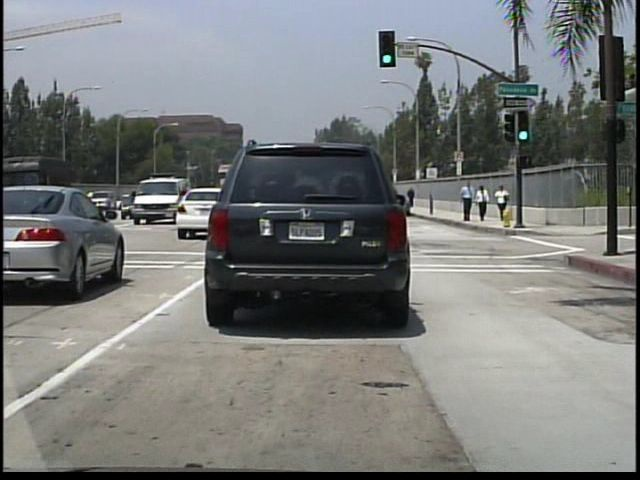person: (459, 180, 475, 223), (475, 185, 491, 223), (495, 184, 509, 211), (409, 187, 417, 209)
